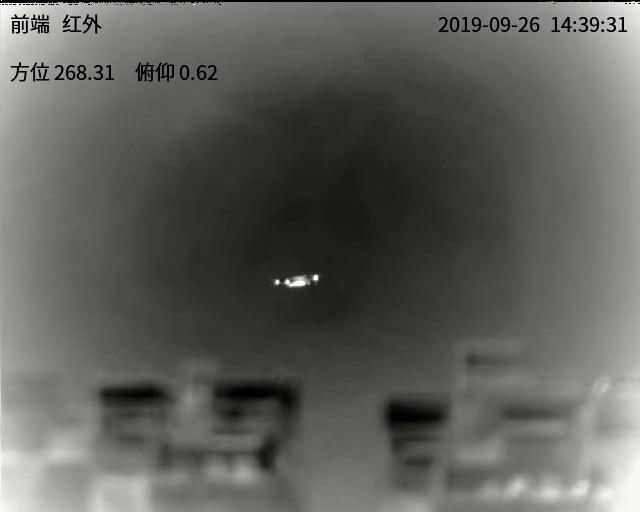DRONE: (271, 272, 322, 289)
